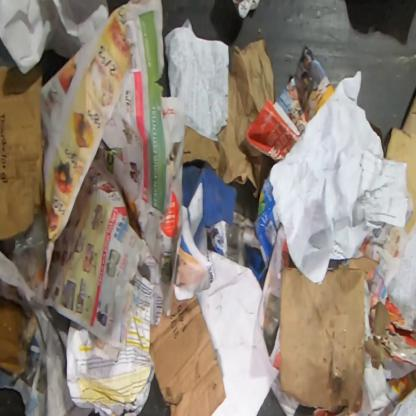cardboard: (279, 261, 366, 415), (149, 290, 227, 415), (0, 59, 46, 242), (183, 162, 237, 258), (365, 293, 415, 380)
soft_plastic: (11, 216, 49, 301)
